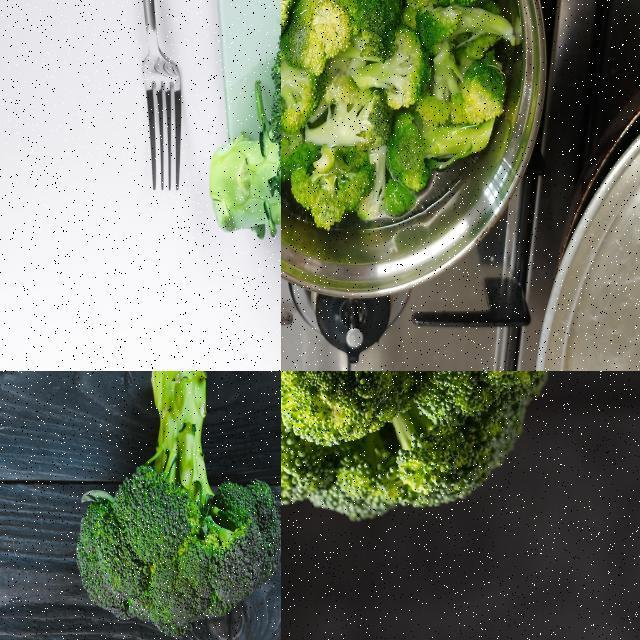broccoli: (68, 371, 280, 639), (281, 371, 567, 527), (207, 0, 280, 353), (380, 111, 505, 188), (353, 28, 423, 108), (281, 25, 331, 127)
